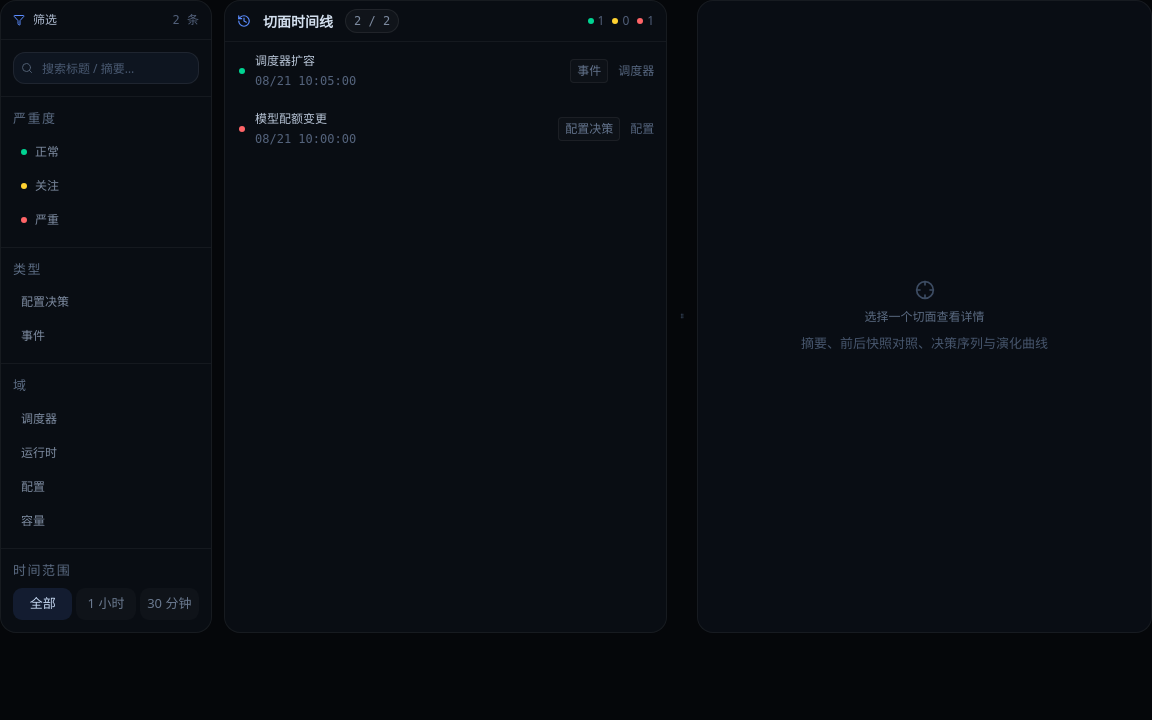
Test case: TraceWorkbench › 搜索过滤切面列表
Type "扩容" into the field with placeholder "搜索标题 / 摘要…" at {"x": 106, "y": 68}, box 13,52 -> 199,84
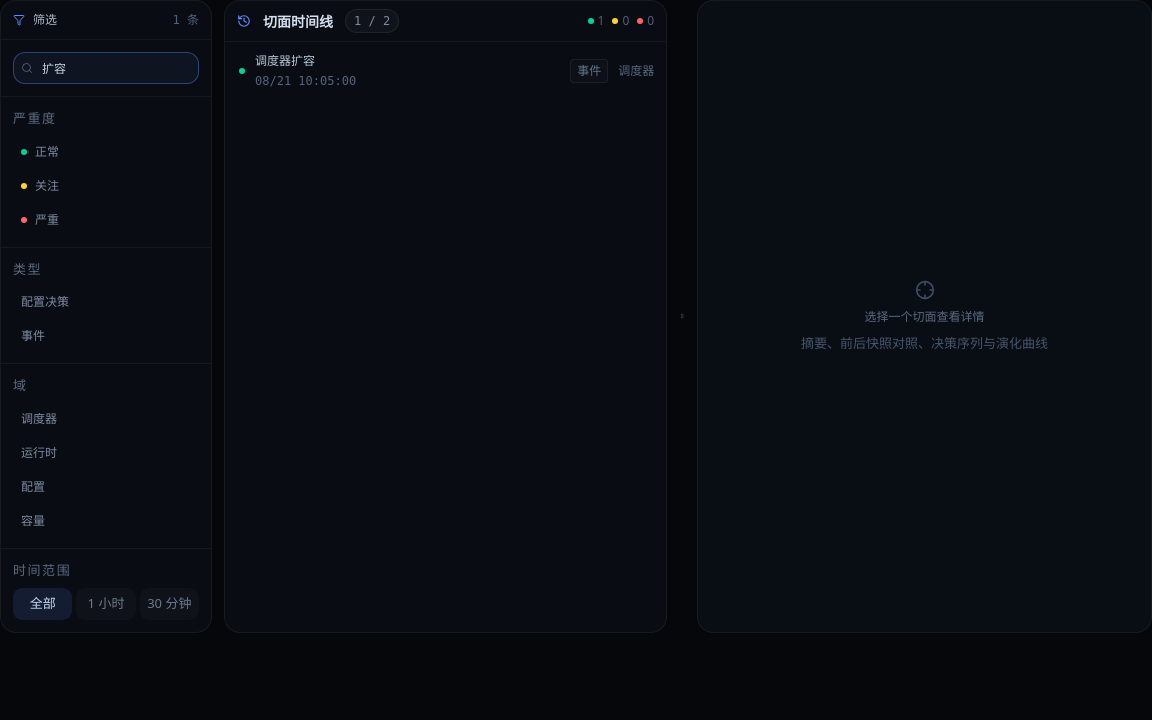
Expected: the text "调度器扩容" is shown, 255,52 -> 315,69
Expected: the button "模型配额变更" is gone
Expected: the text "1 / 2" is shown, 345,9 -> 399,33
